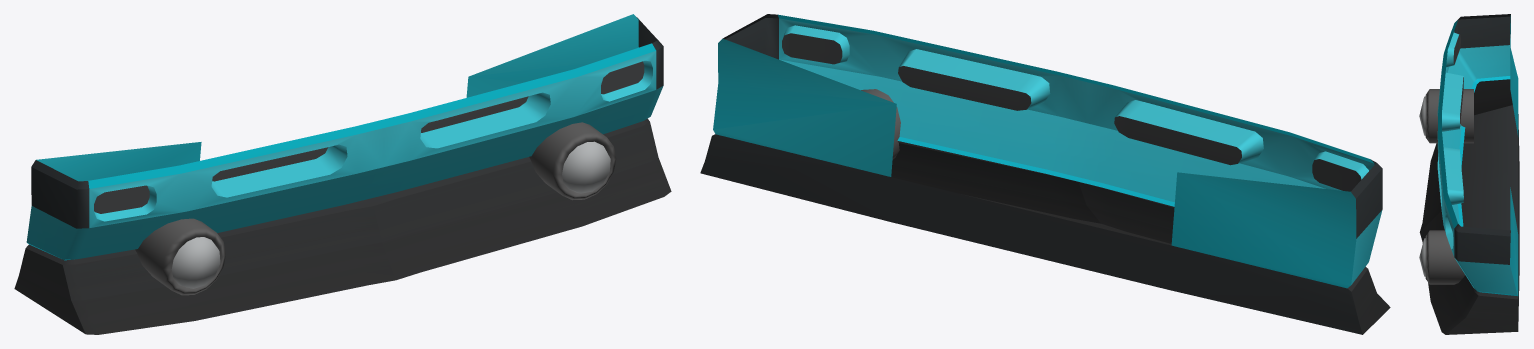
Rendered from Car_04_FrontBumper_Simple.fbx.
The picture shows the model from 3 angles, left to right: view 1: azimuth 30°, elevation 25°; view 2: azimuth 150°, elevation 25°; view 3: azimuth 270°, elevation 25°; orthographic projection. The views are drawn at different scales.
Visible parts, largest first — view 1: Car_04_FrontBumper_Simple; view 2: Car_04_FrontBumper_Simple; view 3: Car_04_FrontBumper_Simple.
Part boxes in pixels (x1,y1,x2,y2): Car_04_FrontBumper_Simple: [14, 14, 671, 334]; Car_04_FrontBumper_Simple: [700, 14, 1390, 334]; Car_04_FrontBumper_Simple: [1419, 14, 1519, 334].
Size of the model in its own units: 196 by 36.39 by 44.3.
